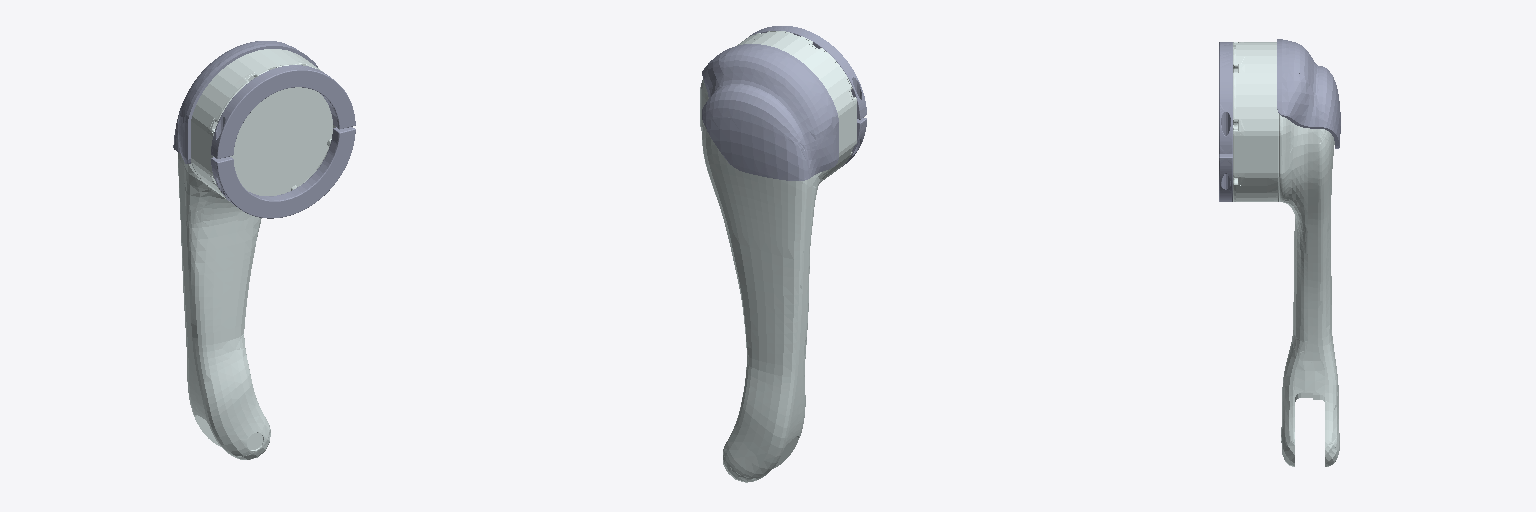
File: thigh.obj
3 renders of one model, left to right at view 1: azimuth 30°, elevation 25°; view 2: azimuth 150°, elevation 25°; view 3: azimuth 270°, elevation 25°, orthographic.
Visible parts, largest first — view 1: thigh.FL0815; view 2: thigh.FL0815; view 3: thigh.FL0815.
Part boxes in pixels (left/top/right/bottom): thigh.FL0815: left=173, top=41, right=355, bottom=459; thigh.FL0815: left=700, top=26, right=866, bottom=482; thigh.FL0815: left=1219, top=39, right=1340, bottom=466.
Bounding box in the file's own units: 0.0969 × 0.2779 × 0.0734.